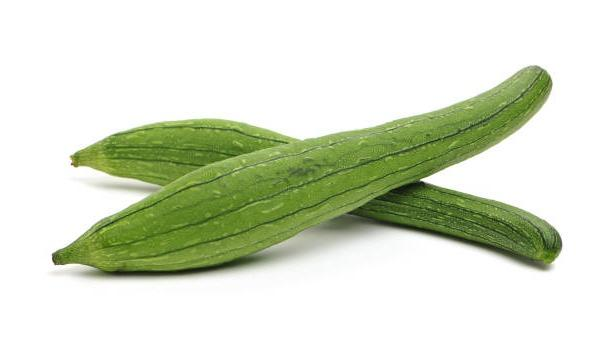peas: (52, 63, 554, 273)
